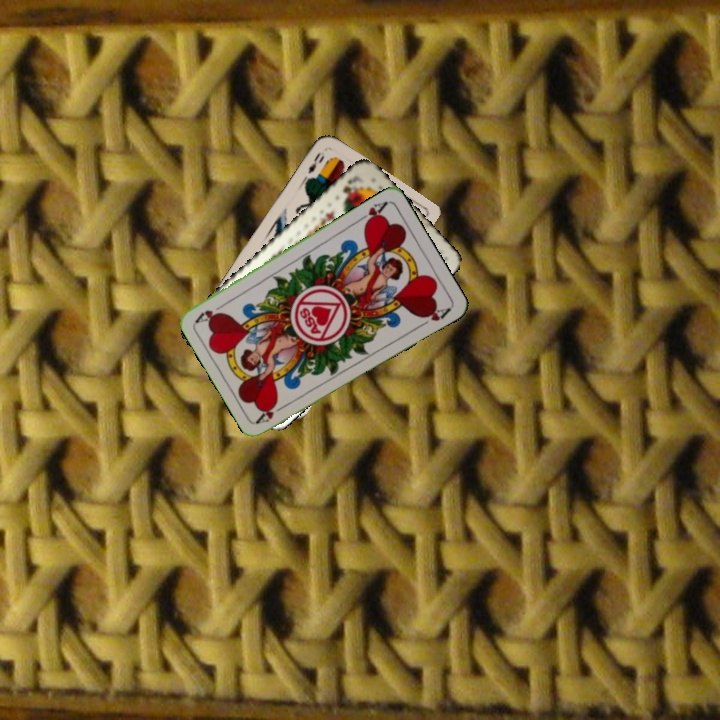EO: (304, 148, 327, 176)
HA: (353, 197, 390, 228), (253, 398, 291, 426)
SK: (338, 172, 360, 204)
